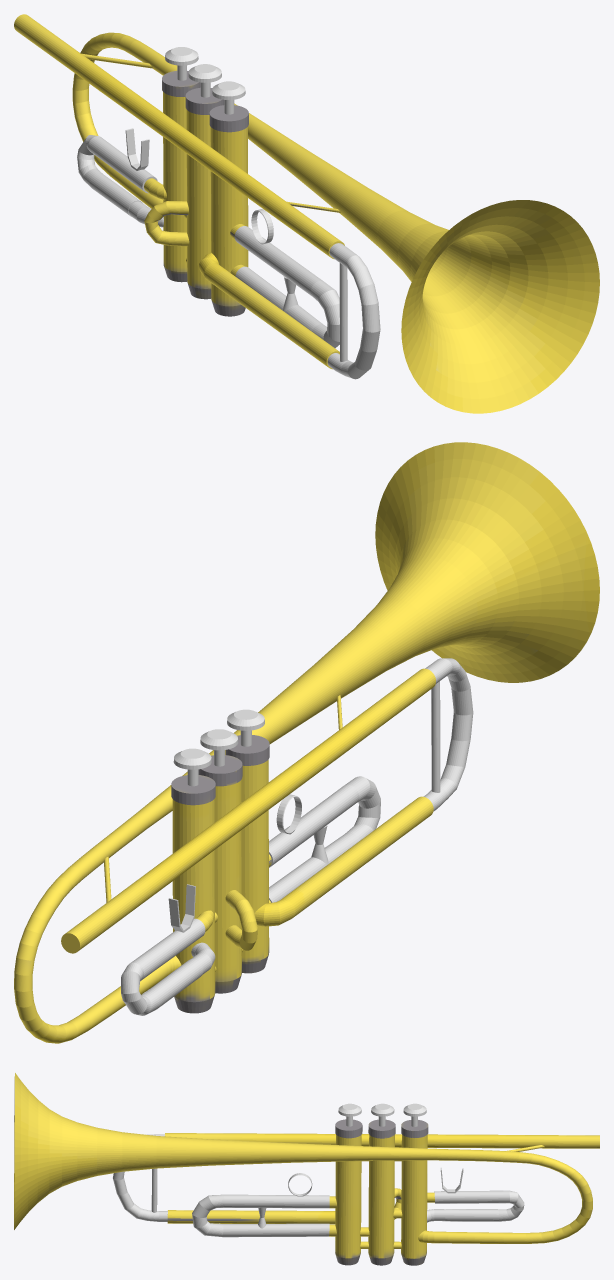
Rendered from trumpet.fbx.
The picture shows the model from 3 angles, top to bottom: view 1: azimuth 30°, elevation 25°; view 2: azimuth 150°, elevation 25°; view 3: azimuth 270°, elevation 25°; orthographic projection. The views are drawn at different scales.
Parts seen in each view (by area): view 1: Cylinder.025, Cylinder.004, Cylinder.026, Cylinder.018, Cylinder.005, Cylinder.006, Cylinder.003; view 2: Cylinder.025, Cylinder.004, Cylinder.026, Cylinder.018, Cylinder.003, Cylinder.006, Cylinder.005; view 3: Cylinder.025, Cylinder.004, Cylinder.026, Cylinder.018, Cylinder.005, Cylinder.003, Cylinder.006.
Boxes of the visible parts, x1,y1,x2,y2 form: Cylinder.025: [14, 14, 599, 413]; Cylinder.004: [234, 209, 339, 348]; Cylinder.026: [77, 128, 163, 227]; Cylinder.018: [327, 243, 380, 379]; Cylinder.005: [188, 64, 221, 97]; Cylinder.006: [212, 81, 245, 114]; Cylinder.003: [165, 47, 198, 80]; Cylinder.025: [14, 442, 599, 1043]; Cylinder.004: [269, 776, 380, 902]; Cylinder.026: [121, 884, 215, 1015]; Cylinder.018: [423, 658, 473, 811]; Cylinder.003: [173, 748, 211, 786]; Cylinder.006: [227, 709, 264, 746]; Cylinder.005: [200, 729, 238, 766]; Cylinder.025: [14, 1073, 599, 1265]; Cylinder.004: [192, 1173, 329, 1237]; Cylinder.026: [427, 1167, 524, 1222]; Cylinder.018: [113, 1134, 167, 1221]; Cylinder.005: [371, 1103, 394, 1126]; Cylinder.003: [403, 1103, 426, 1126]; Cylinder.006: [338, 1103, 361, 1126].
Bounding box in the file's own units: 343 × 457 × 1266.
